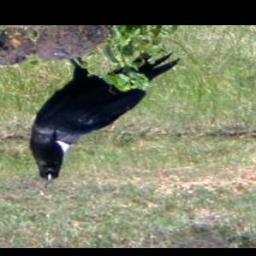Crow: (26, 48, 183, 184)
